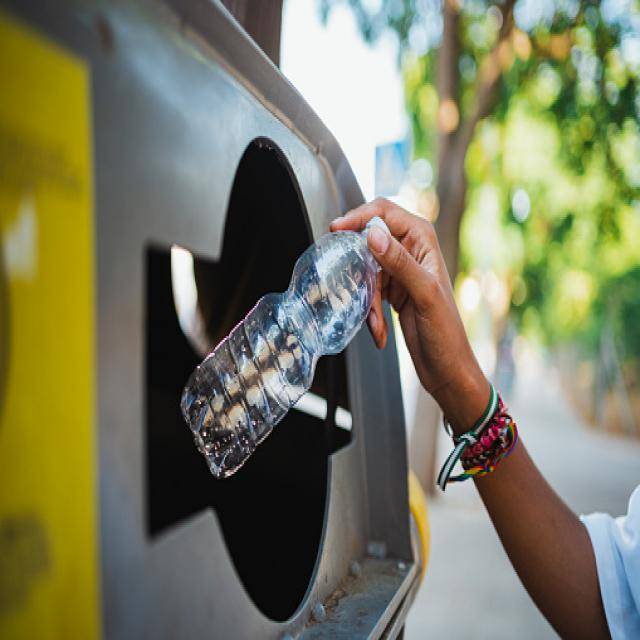Botella Plastica: (175, 207, 391, 474)
